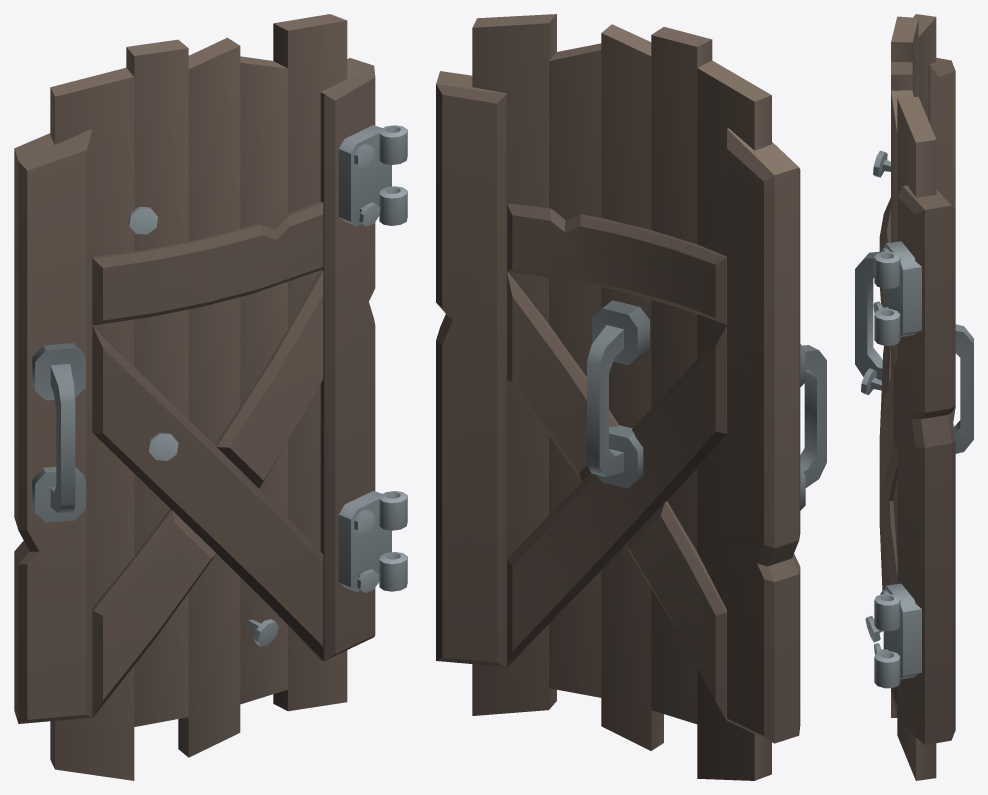
File: Monstrosity_BarndoorShield.gltf
3 renders of one model, left to right at view 1: azimuth 30°, elevation 25°; view 2: azimuth 150°, elevation 25°; view 3: azimuth 270°, elevation 25°, orthographic. The views are drawn at different scales.
Visible parts, largest first — view 1: Monstrosity_BarndoorShield; view 2: Monstrosity_BarndoorShield; view 3: Monstrosity_BarndoorShield.
Part boxes in pixels (bbox=[...]): Monstrosity_BarndoorShield: bbox=[14, 14, 407, 780]; Monstrosity_BarndoorShield: bbox=[436, 14, 826, 780]; Monstrosity_BarndoorShield: bbox=[855, 14, 973, 780].
Size of the model in its own units: 0.8167 by 1.54 by 0.2446.
Materials: 1 (1 with a texture image).
